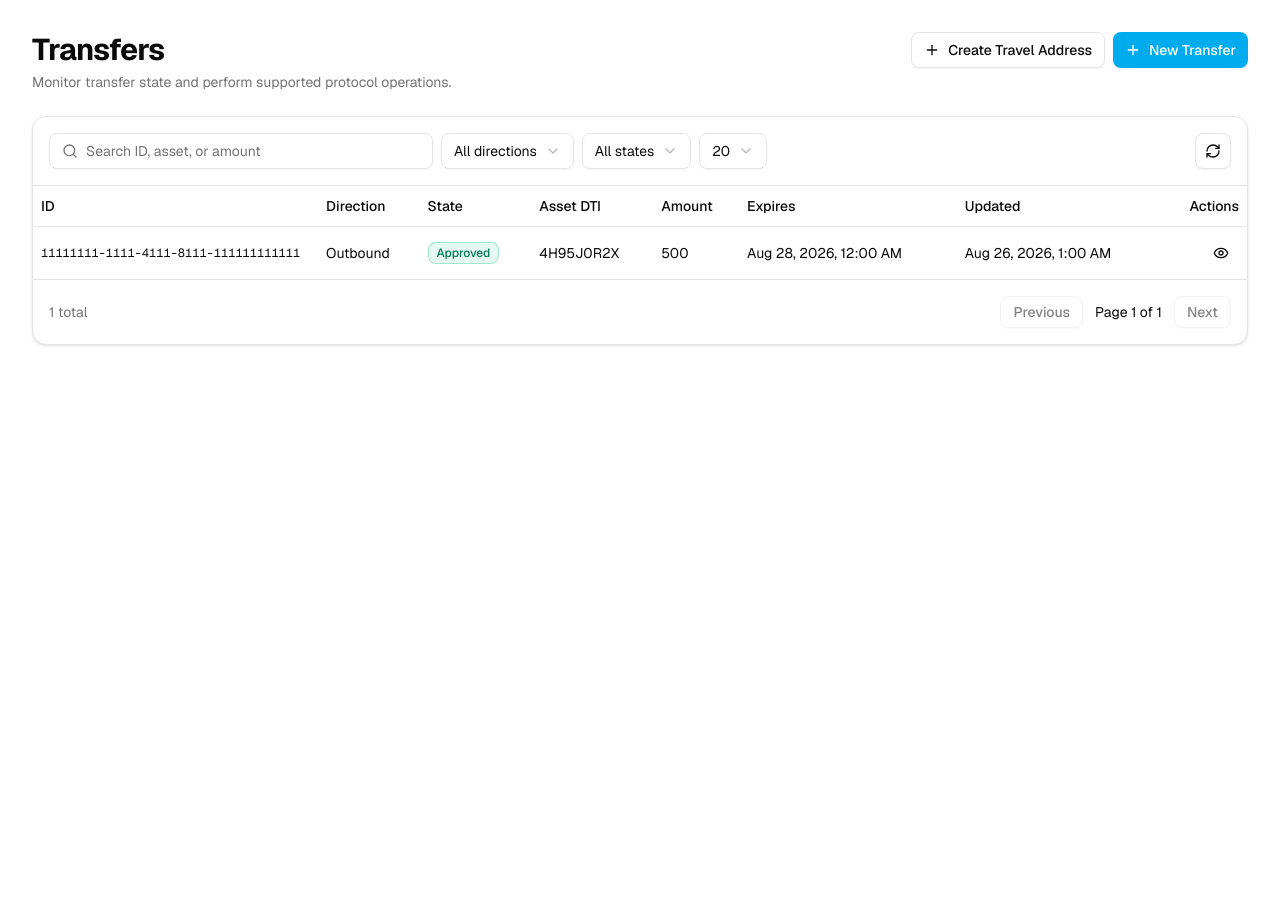
it: starts parallel email invitations from eligible transfer detail and shows delayed availability
Click the button named "View transfer 11111111-1111-4111-8111-111111111111" at (1221, 252), box [1203,234,1239,270]
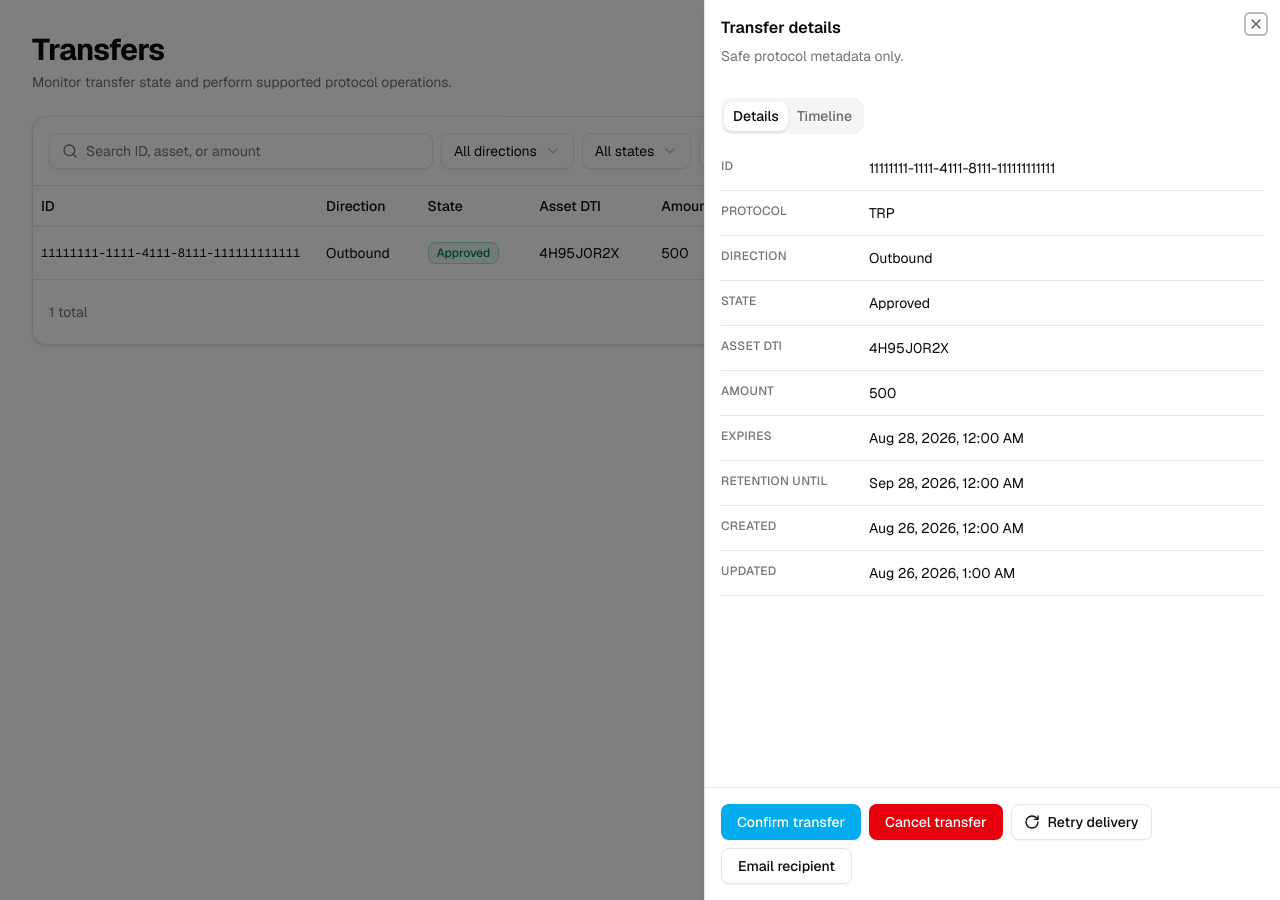
Click the button "Email recipient" at (786, 866), box [721,848,852,884]
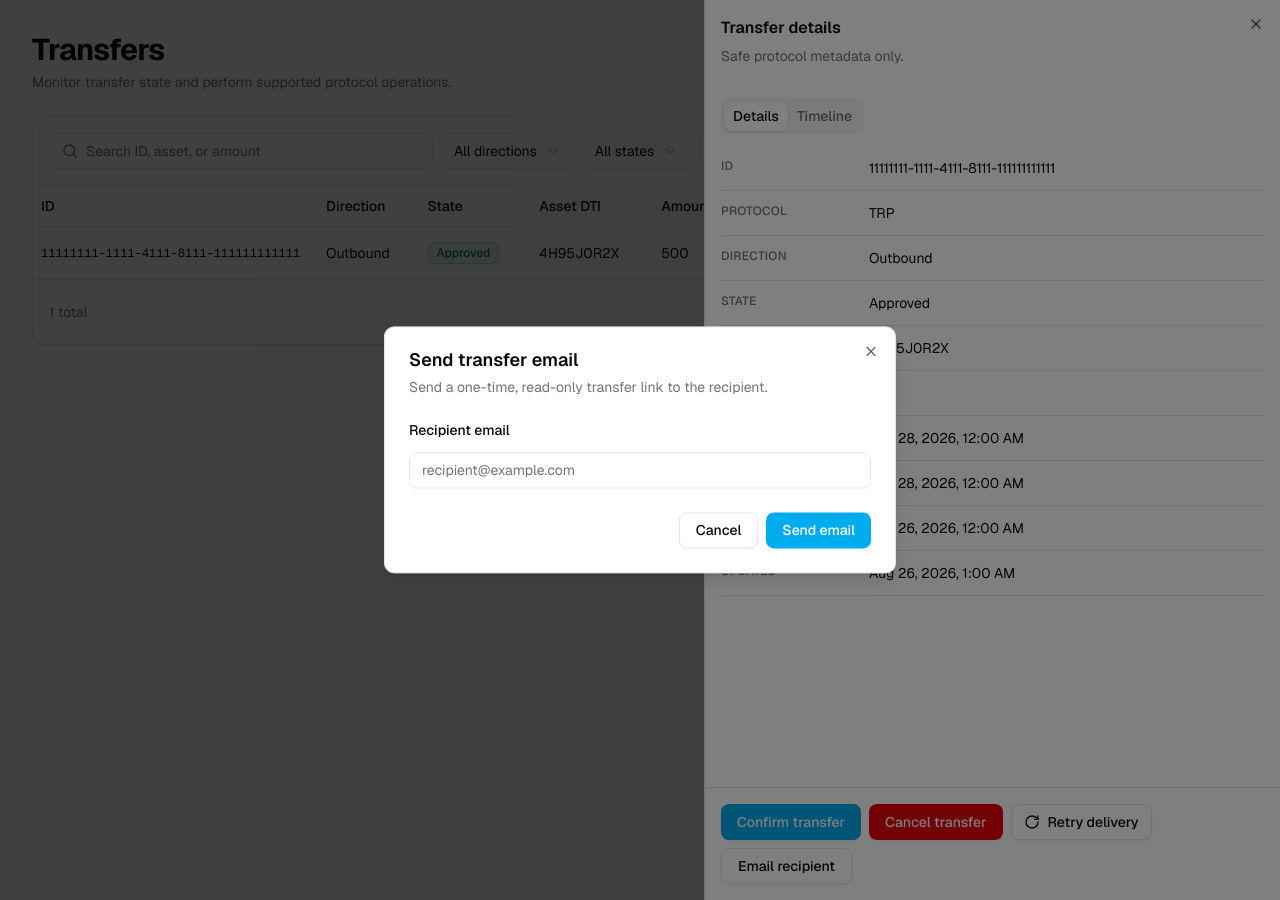
Type "recipient@example.test" into the field labelled "Recipient email" at (640, 471), box [409,453,871,489]
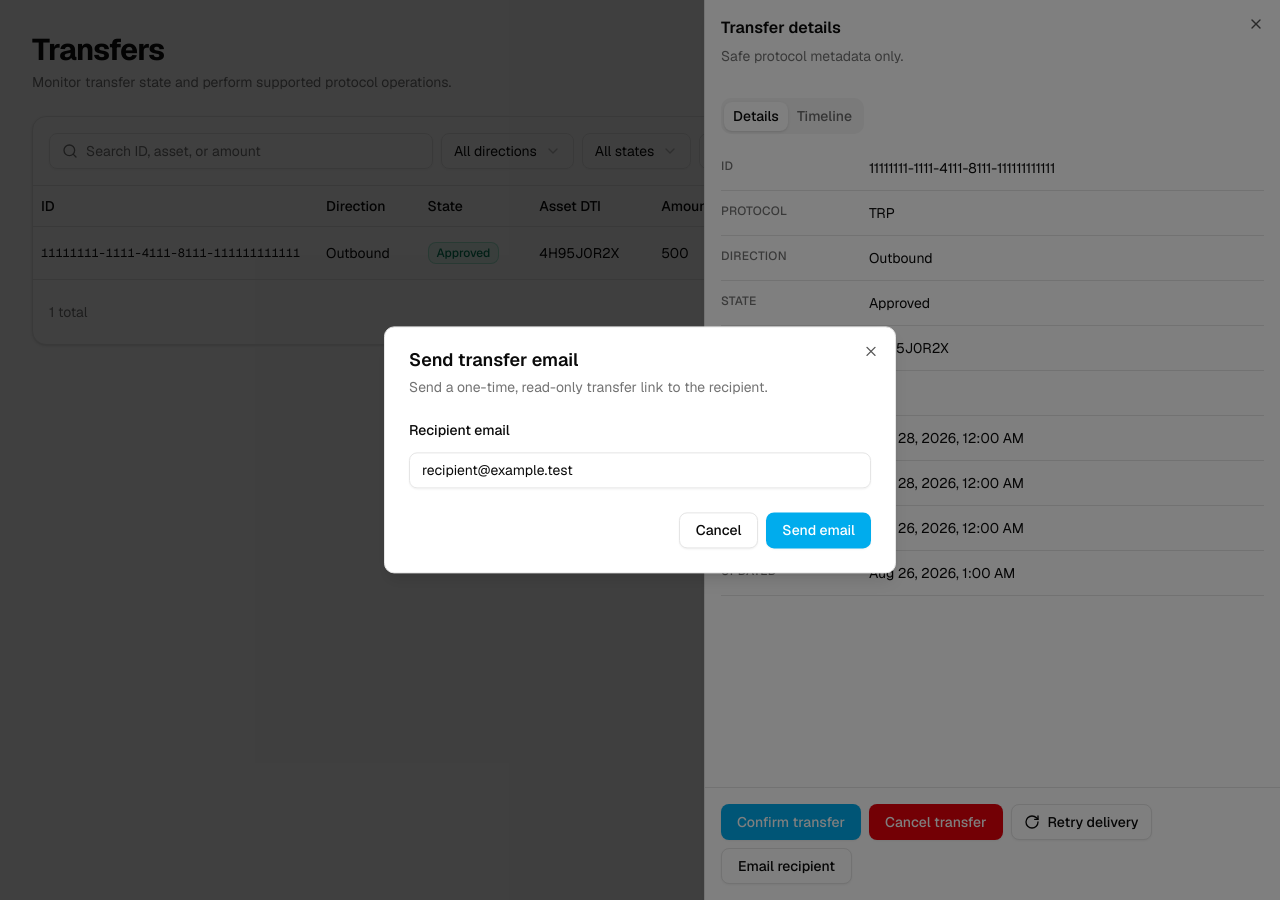
Click the button "Send email" at (819, 531), box [766,513,871,549]
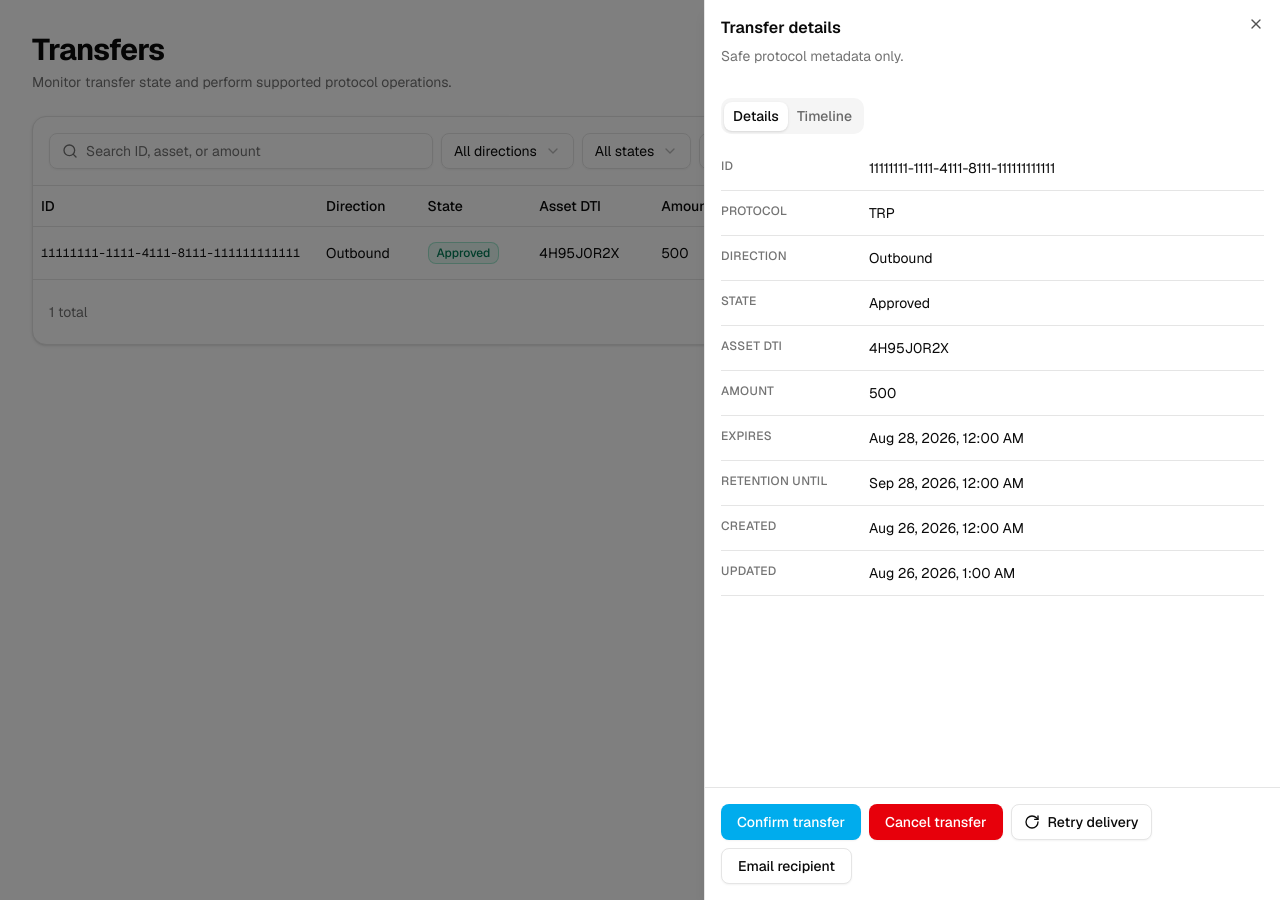
Result: the heading "Send transfer email" is gone
Click the button named "Close sheet" at (1256, 24), box [1248,16,1264,32]
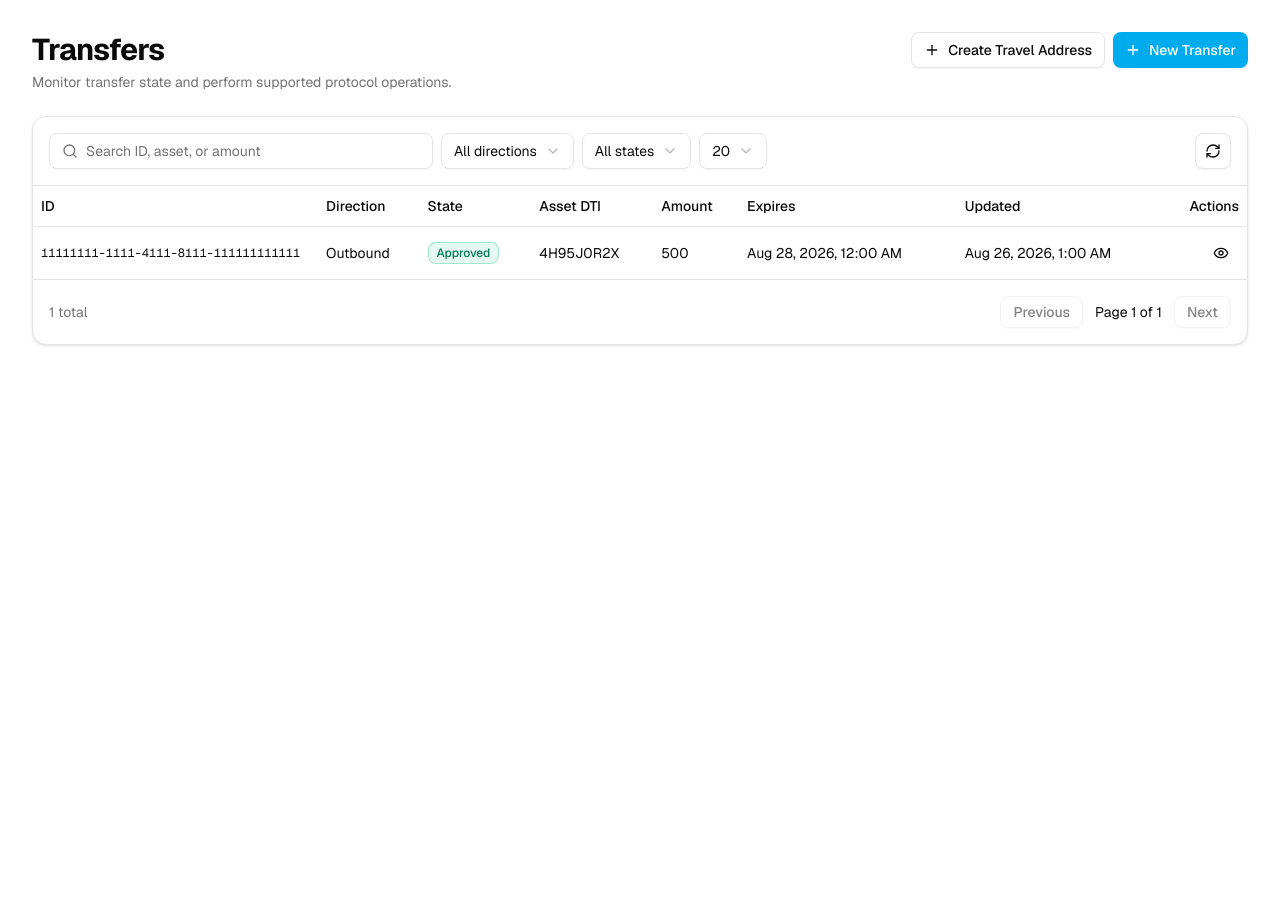
Click the button named "View transfer 11111111-1111-4111-8111-111111111111" at (1221, 252), box [1203,234,1239,270]
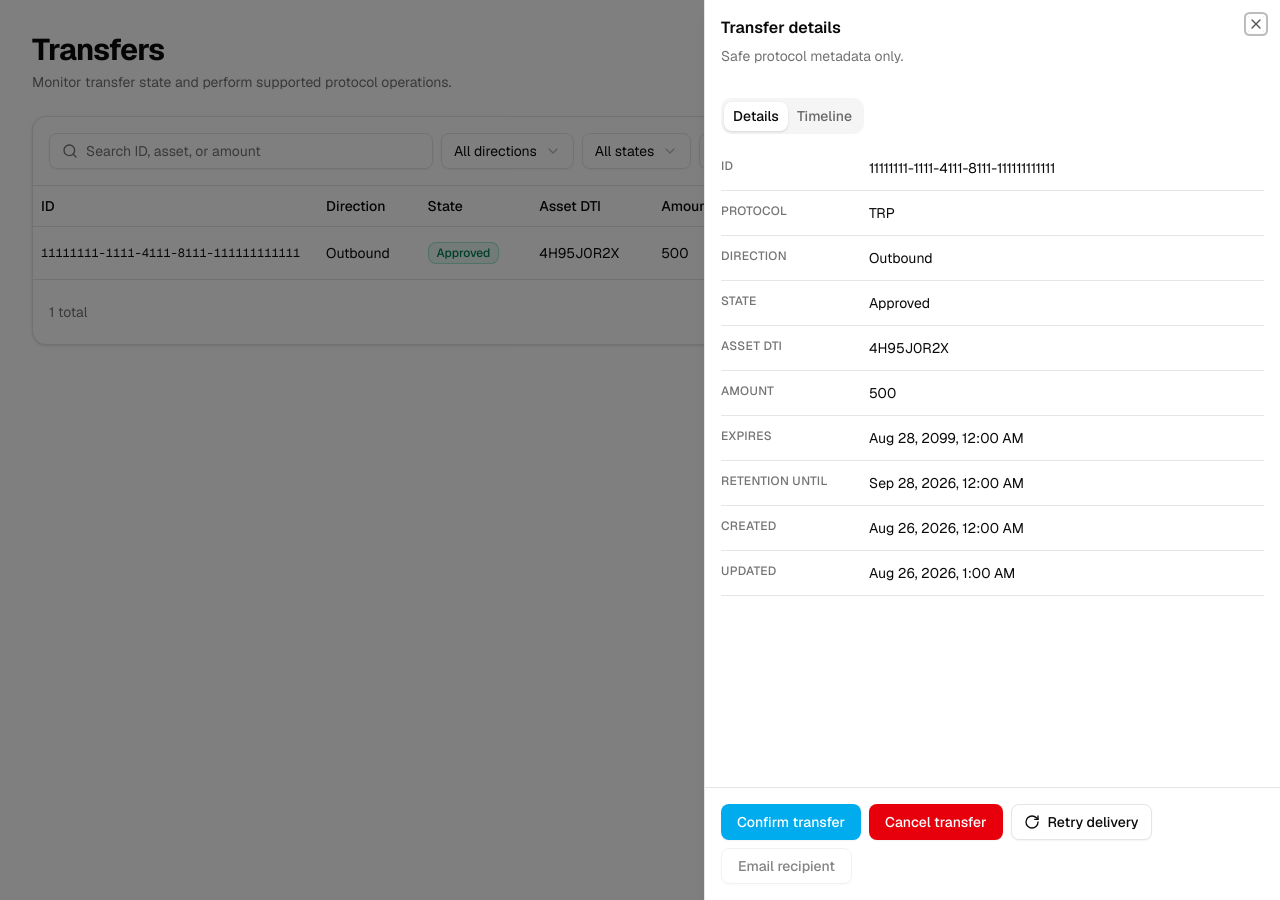
Result: the button "Email recipient" is disabled at [721,848,852,884]
